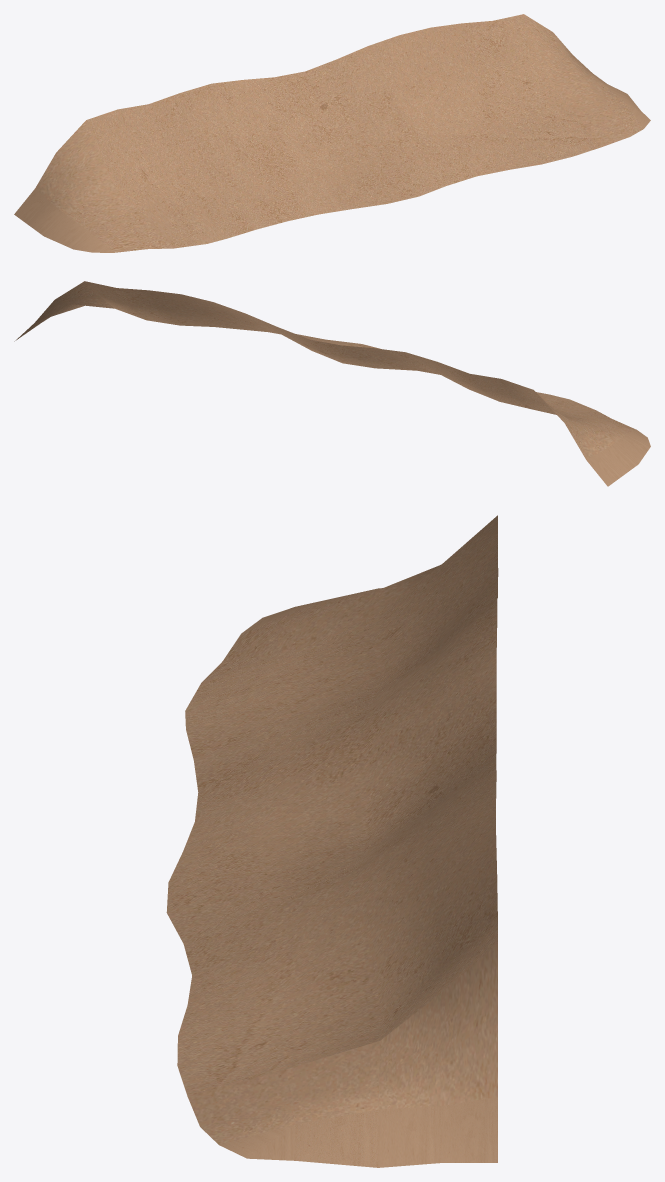
File: sand_pile_02.dae
3 renders of one model, top to bottom at view 1: azimuth 30°, elevation 25°; view 2: azimuth 150°, elevation 25°; view 3: azimuth 270°, elevation 25°, orthographic. The views are drawn at different scales.
Visible parts, largest first — view 1: Pile_02; view 2: Pile_02; view 3: Pile_02.
Boxes of the visible parts, x1,y1,x2,y2 form: Pile_02: [14, 14, 650, 252]; Pile_02: [14, 281, 650, 486]; Pile_02: [166, 515, 498, 1167].
Size of what is drawn, in the model's own units: 4.67 by 0.6598 by 1.15.
